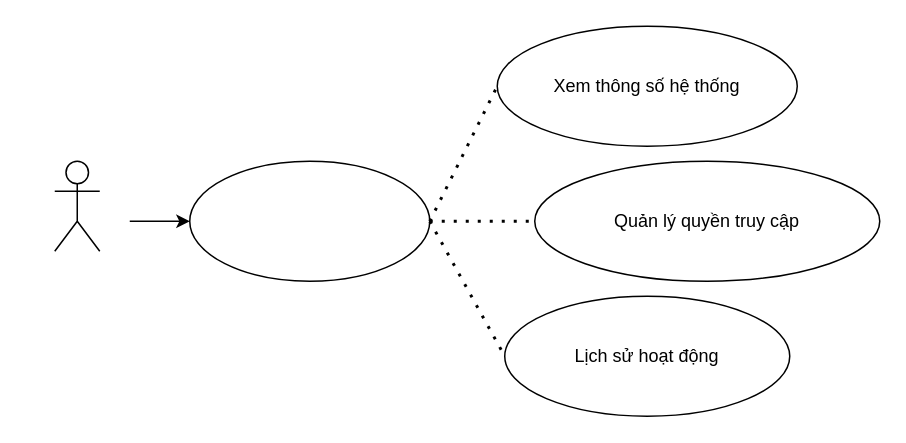
This 906x443 diagram has some shape labels left out. Here are the shapes that lost their labels. From the top down, the centre of each, then its label:
At point 76,205: "Quản trị viên".
At point 309,220: "Quản lý hệ thống".
